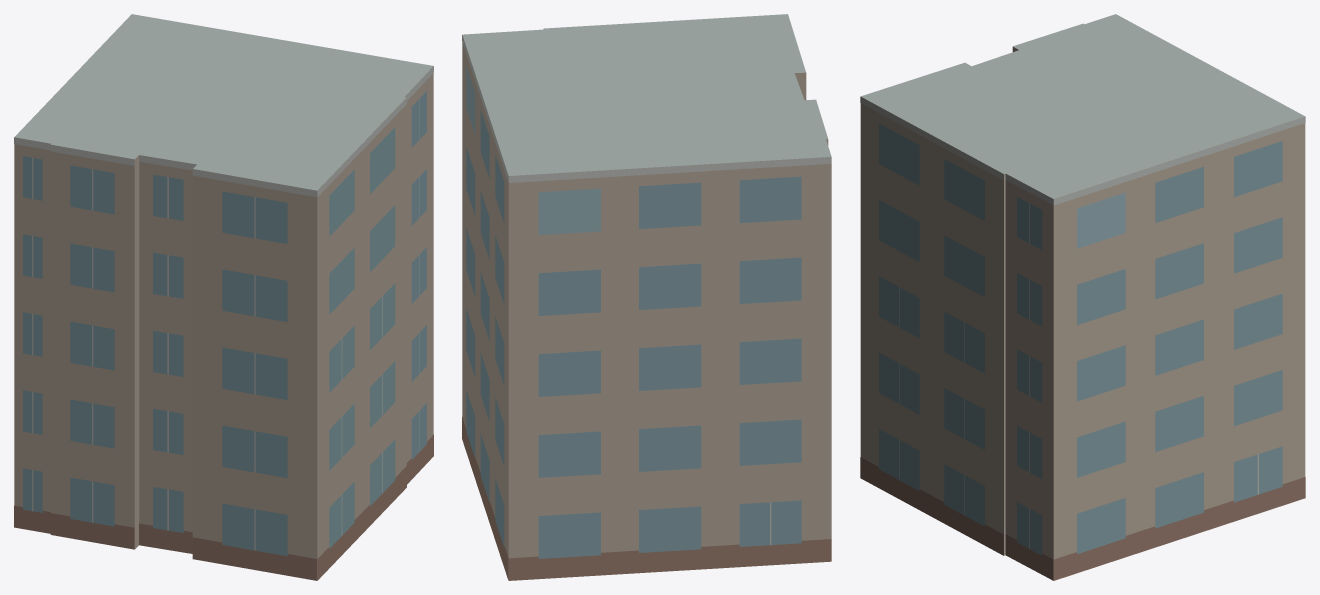
The model's file is survey-upis-32959952.glb.
The picture shows the model from 3 angles, left to right: view 1: azimuth 30°, elevation 25°; view 2: azimuth 150°, elevation 25°; view 3: azimuth 270°, elevation 25°; orthographic projection. The views are drawn at different scales.
Parts seen in each view (by area): view 1: survey-upis-32959952.tmp; view 2: survey-upis-32959952.tmp; view 3: survey-upis-32959952.tmp.
Boxes of the visible parts, x1,y1,x2,y2 form: survey-upis-32959952.tmp: (14, 14, 433, 580); survey-upis-32959952.tmp: (462, 14, 831, 580); survey-upis-32959952.tmp: (860, 14, 1305, 580).
Size of the model in its own units: 14.88 by 14.3 by 15.12.
